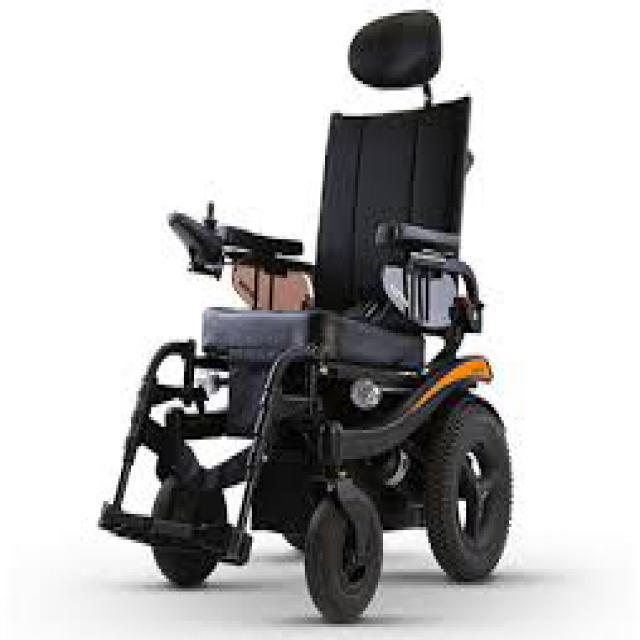wheelchair: (70, 3, 522, 630)
